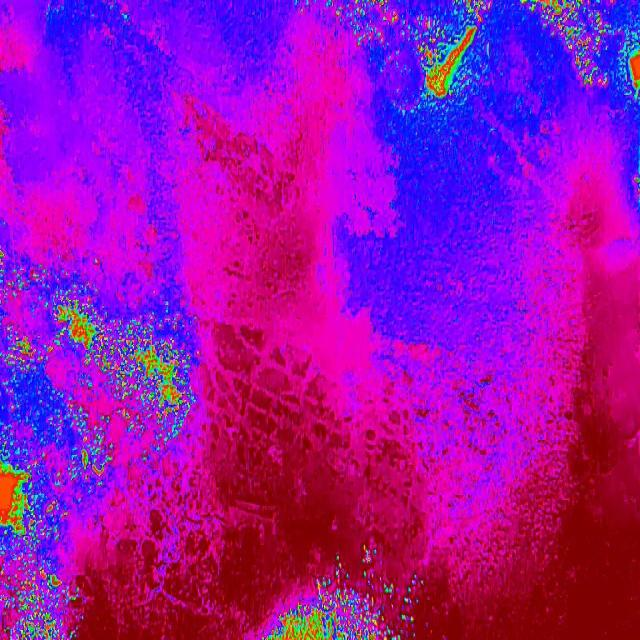fire: (0, 247, 111, 640), (351, 0, 494, 104), (112, 300, 202, 456), (523, 0, 640, 96), (260, 576, 420, 640)
